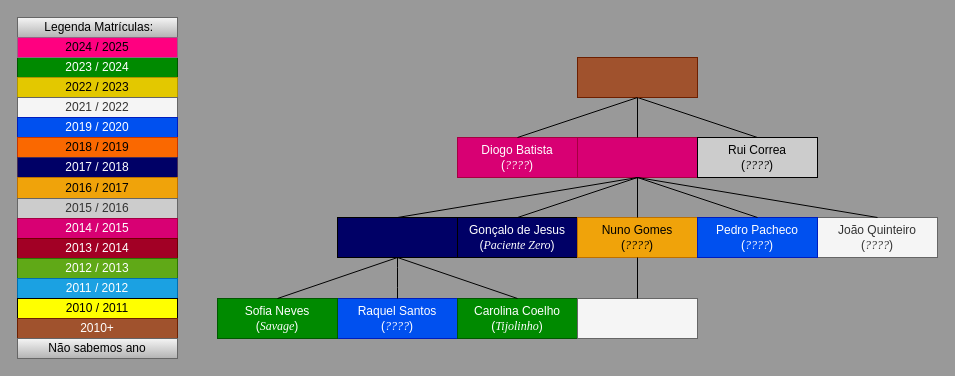
Some shapes in this 955 by 376 pixel diagram are drawn without their labels. The shapes that lost their labels are listed below. From the top down, each one's box as (x1, y1, x2, y2) in pixels, then its label:
(576, 56, 698, 98): Bruno Carvalho ( ???? )
(576, 136, 698, 178): Guilherme Santos ( Kodak )
(336, 216, 458, 258): Ana Ferreira ( Arquipélagos )
(576, 298, 698, 338): Gonçalo Correia ( ???? )
